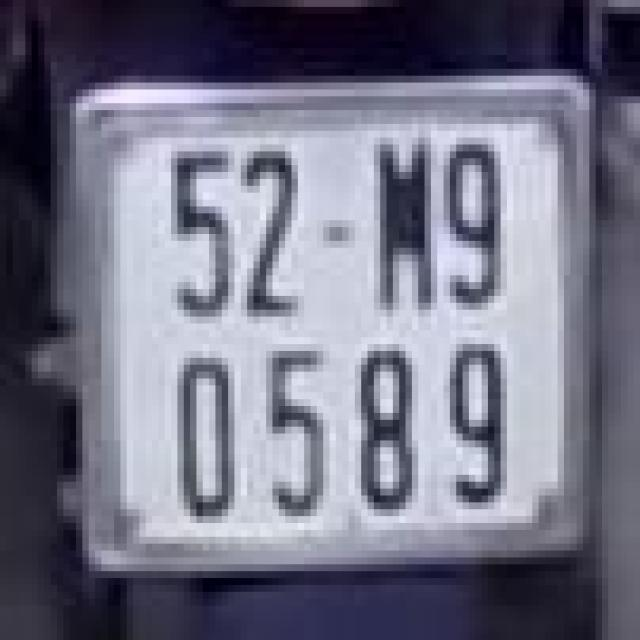0: (156, 351, 250, 516)
2: (241, 138, 310, 324)
5: (158, 144, 241, 323), (257, 337, 339, 516)
8: (346, 344, 422, 509)
9: (440, 127, 523, 313), (437, 334, 513, 506)
M: (361, 130, 444, 316)
